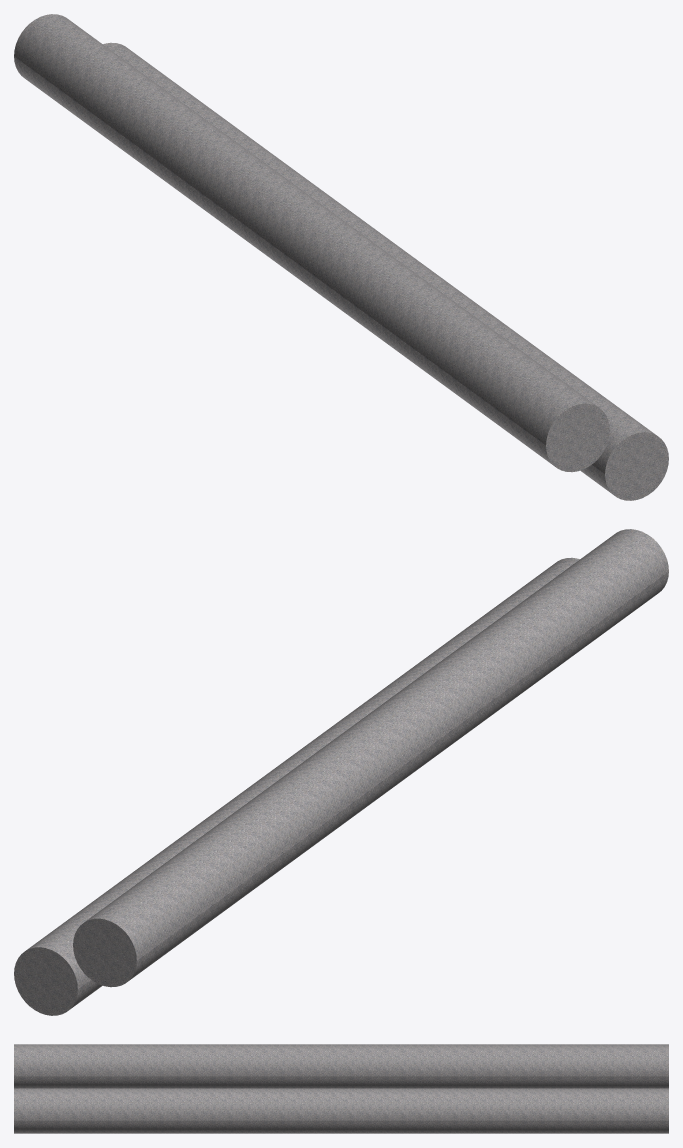
3 renders of one model, top to bottom at view 1: azimuth 30°, elevation 25°; view 2: azimuth 150°, elevation 25°; view 3: azimuth 270°, elevation 25°, orthographic. The views are drawn at different scales.
Parts seen in each view (by area): view 1: 0_2_0_3_0_2_3_0_0; view 2: 0_2_0_3_0_2_3_0_0; view 3: 0_2_0_3_0_2_3_0_0.
Part boxes in pixels (x1,y1,x2,y2): 0_2_0_3_0_2_3_0_0: [14, 14, 668, 500]; 0_2_0_3_0_2_3_0_0: [14, 529, 668, 1015]; 0_2_0_3_0_2_3_0_0: [14, 1044, 668, 1133].
Bounding box in the file's own units: 1.54 × 1.31 × 11.53.
Materials: 2 (2 with a texture image).
